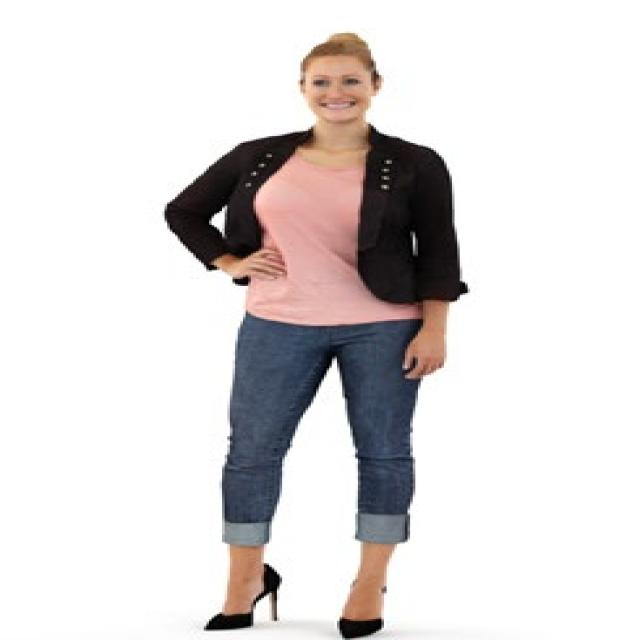standing: (159, 29, 472, 640)
